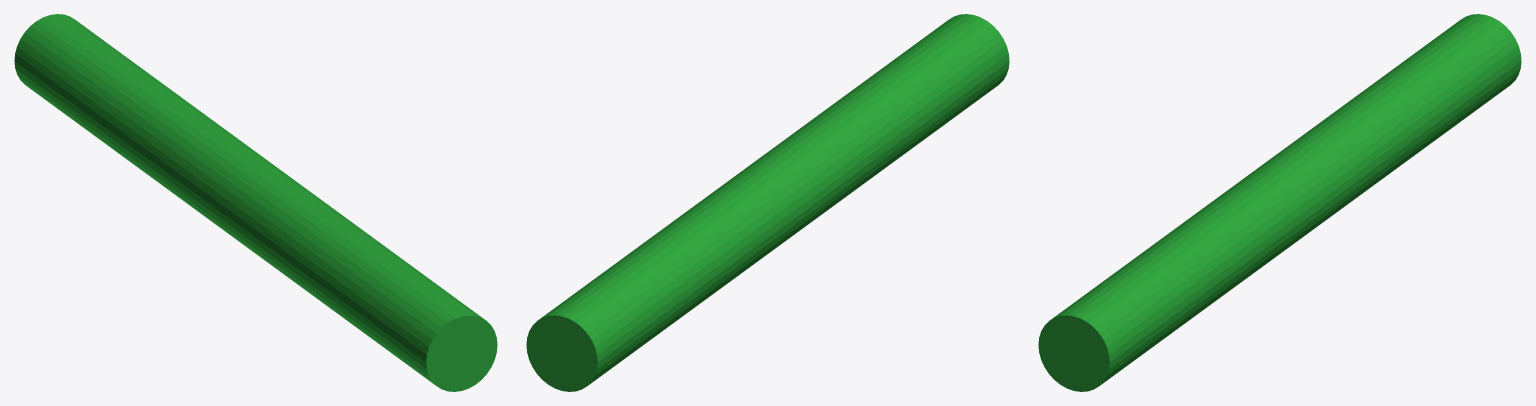
File: Arrow_X.obj
3 views of the same model, side by side, from view 1: azimuth 30°, elevation 25°; view 2: azimuth 150°, elevation 25°; view 3: azimuth 330°, elevation 25° (orthographic).
Parts seen in each view (by area): view 1: Arrow_X_Cylinder.001; view 2: Arrow_X_Cylinder.001; view 3: Arrow_X_Cylinder.001.
Part boxes in pixels (left/top/right/bottom): Arrow_X_Cylinder.001: left=14, top=14, right=497, bottom=391; Arrow_X_Cylinder.001: left=526, top=14, right=1009, bottom=391; Arrow_X_Cylinder.001: left=1038, top=14, right=1521, bottom=391.
Size of the model in its own units: 0.1 by 0.1 by 1.
